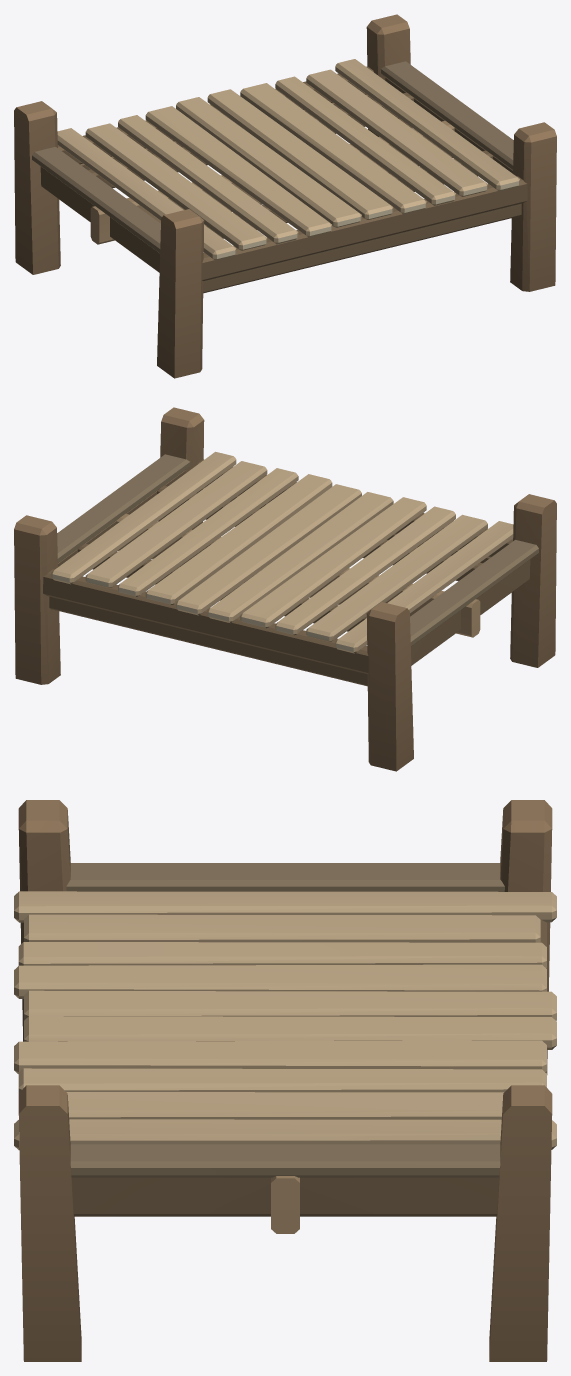
The model's file is pier.glb.
3 views of the same model, one above another, from view 1: azimuth 30°, elevation 25°; view 2: azimuth 150°, elevation 25°; view 3: azimuth 270°, elevation 25° (orthographic). The views are drawn at different scales.
Visible parts, largest first — view 1: pier; view 2: pier; view 3: pier.
Part boxes in pixels (<box>): pier: <box>14,14,556,378</box>; pier: <box>14,407,556,771</box>; pier: <box>14,800,556,1361</box>.
Size of the model in its own units: 4 by 1.56 by 3.
